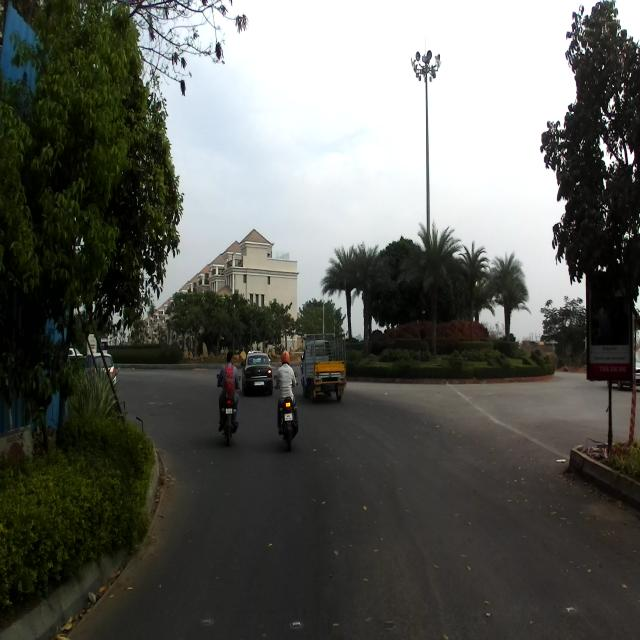motorcycle ahead at: (270, 391, 303, 453), (216, 382, 241, 446)
truck ahead at: (309, 332, 349, 400)
